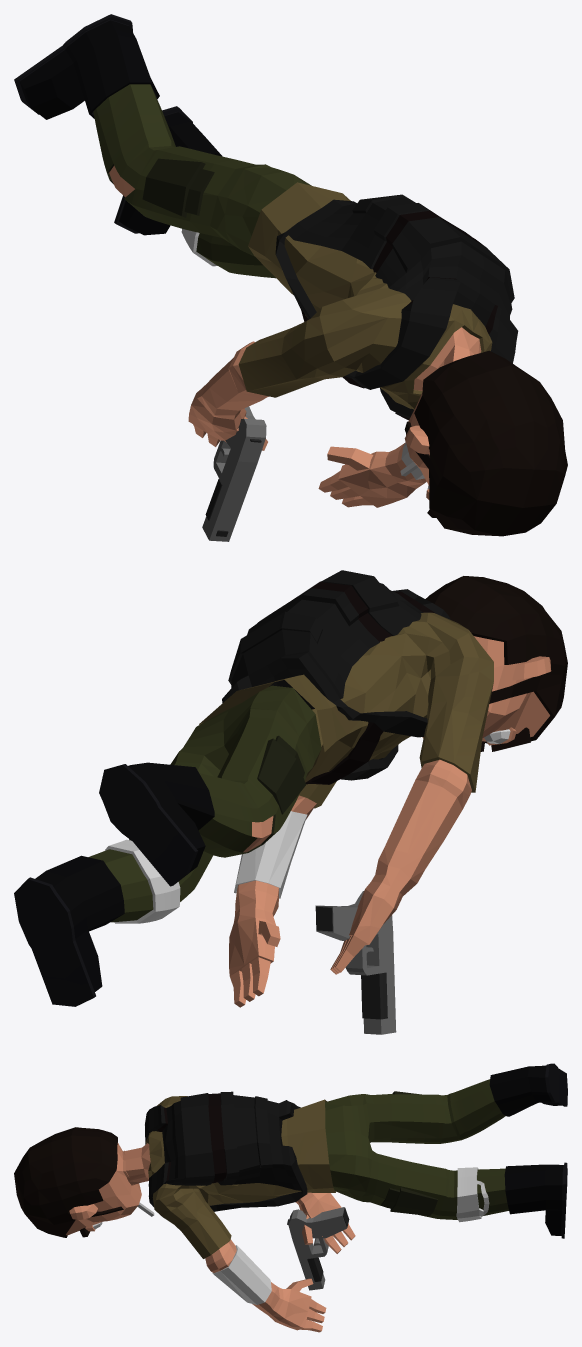
The model's file is frame_0010.obj.
3 renders of one model, top to bottom at view 1: azimuth 30°, elevation 25°; view 2: azimuth 150°, elevation 25°; view 3: azimuth 270°, elevation 25°, orthographic. The views are drawn at different scales.
Parts seen in each view (by area): view 1: Body, Gun; view 2: Body, Gun; view 3: Body, Gun.
Part boxes in pixels (x1=…): Body: x1=14, y1=14, x2=567, y2=536; Gun: x1=202, y1=406, x2=266, y2=541; Body: x1=14, y1=570, x2=567, y2=1007; Gun: x1=315, y1=891, x2=396, y2=1034; Body: x1=14, y1=1063, x2=567, y2=1332; Gun: x1=287, y1=1207, x2=349, y2=1290.
Bounding box in the file's own units: 1.33 × 2.05 × 4.14.
